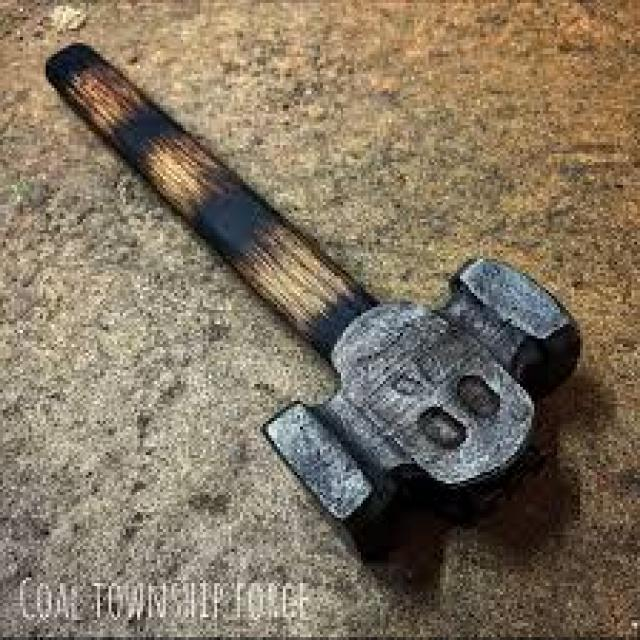hammer: (41, 34, 588, 572)
